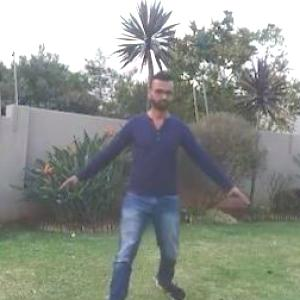land: (60, 62, 260, 299)
